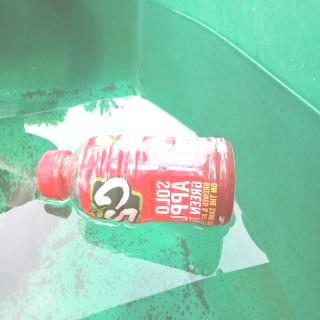bottle: (36, 134, 235, 228)
